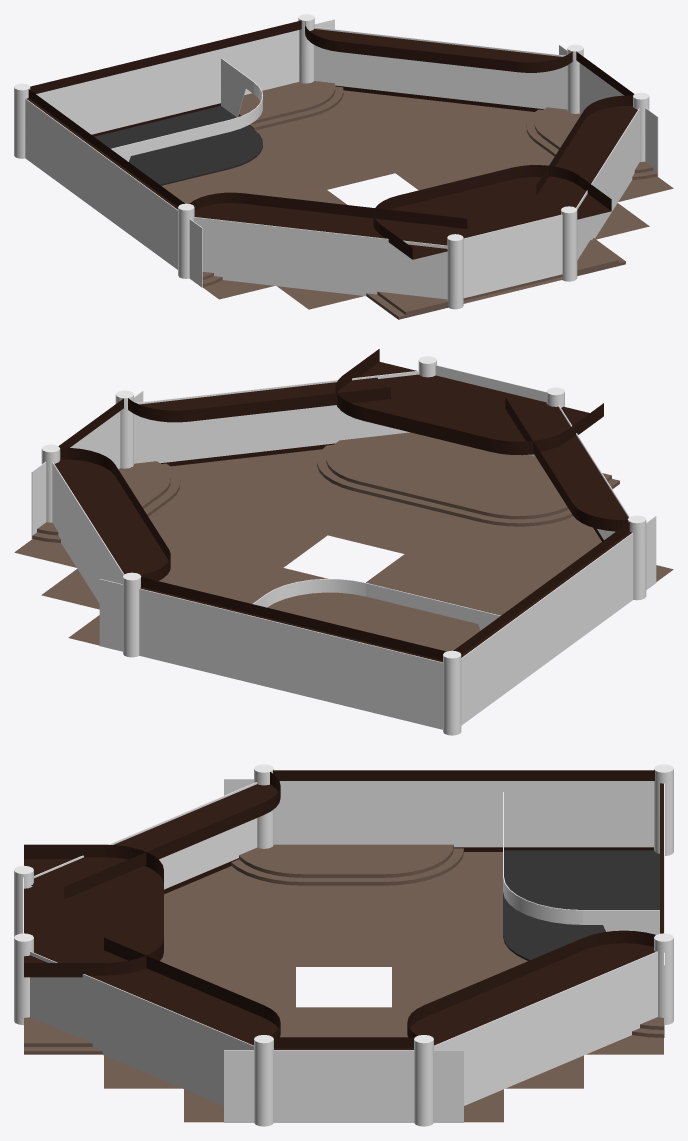
File: Meta_Lounge.FBX
3 views of the same model, one above another, from view 1: azimuth 30°, elevation 25°; view 2: azimuth 150°, elevation 25°; view 3: azimuth 270°, elevation 25° (orthographic). The views are drawn at different scales.
Visible parts, largest first — view 1: Box119, Box118, Box104, Box102, Box203, Box204, Box205, Center_Floor, Box202, Box120, Box247, Box350 (+88 smaller); view 2: Center_Floor, Box118, Box120, Box350, Box119, Box116, Box348, Box121, Box122, Box123, Plane254, Plane255 (+85 smaller); view 3: Center_Floor, Box349, Box121, Box122, Box123, Box348, Box109, Box111, Box193, Box194, Box195, Box197 (+88 smaller).
Boxes of the visible parts, left/top/right/bottom form: Box119: left=107, top=63, right=164, bottom=130; Box118: left=164, top=49, right=221, bottom=116; Box104: left=512, top=214, right=562, bottom=286; Box102: left=463, top=227, right=512, bottom=298; Box203: left=320, top=231, right=365, bottom=295; Box204: left=275, top=226, right=320, bottom=290; Box205: left=231, top=221, right=275, bottom=285; Center_Floor: left=291, top=158, right=440, bottom=204; Box202: left=365, top=236, right=410, bottom=296; Box120: left=50, top=77, right=107, bottom=134; Box247: left=454, top=168, right=535, bottom=211; Box350: left=221, top=35, right=277, bottom=94; Center_Floor: left=243, top=518, right=444, bottom=603; Box118: left=227, top=610, right=291, bottom=692; Box120: left=355, top=641, right=419, bottom=723; Box350: left=163, top=594, right=227, bottom=677; Box119: left=291, top=625, right=355, bottom=708; Box116: left=99, top=579, right=163, bottom=661; Box348: left=582, top=543, right=619, bottom=636; Box121: left=471, top=624, right=508, bottom=717; Box122: left=508, top=597, right=545, bottom=690; Box123: left=545, top=570, right=582, bottom=663; Plane254: left=381, top=507, right=481, bottom=549; Plane255: left=317, top=491, right=417, bottom=533; Center_Floor: left=264, top=953, right=423, bottom=1020; Box349: left=304, top=1050, right=383, bottom=1122; Box121: left=544, top=781, right=623, bottom=847; Box122: left=464, top=781, right=543, bottom=847; Box123: left=384, top=781, right=463, bottom=847; Box348: left=304, top=781, right=383, bottom=844; Box109: left=224, top=1050, right=303, bottom=1122; Box111: left=384, top=1050, right=463, bottom=1122; Box193: left=103, top=982, right=143, bottom=1071; Box194: left=143, top=999, right=183, bottom=1088; Box195: left=183, top=1016, right=223, bottom=1105; Box197: left=464, top=1016, right=504, bottom=1105.
Bounding box in the file's own units: 33 × 33 × 4.6.
